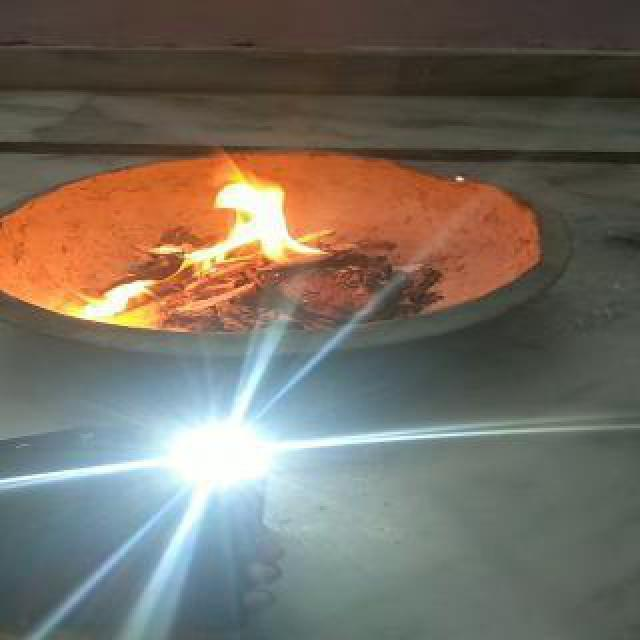Fire: (70, 180, 338, 328)
